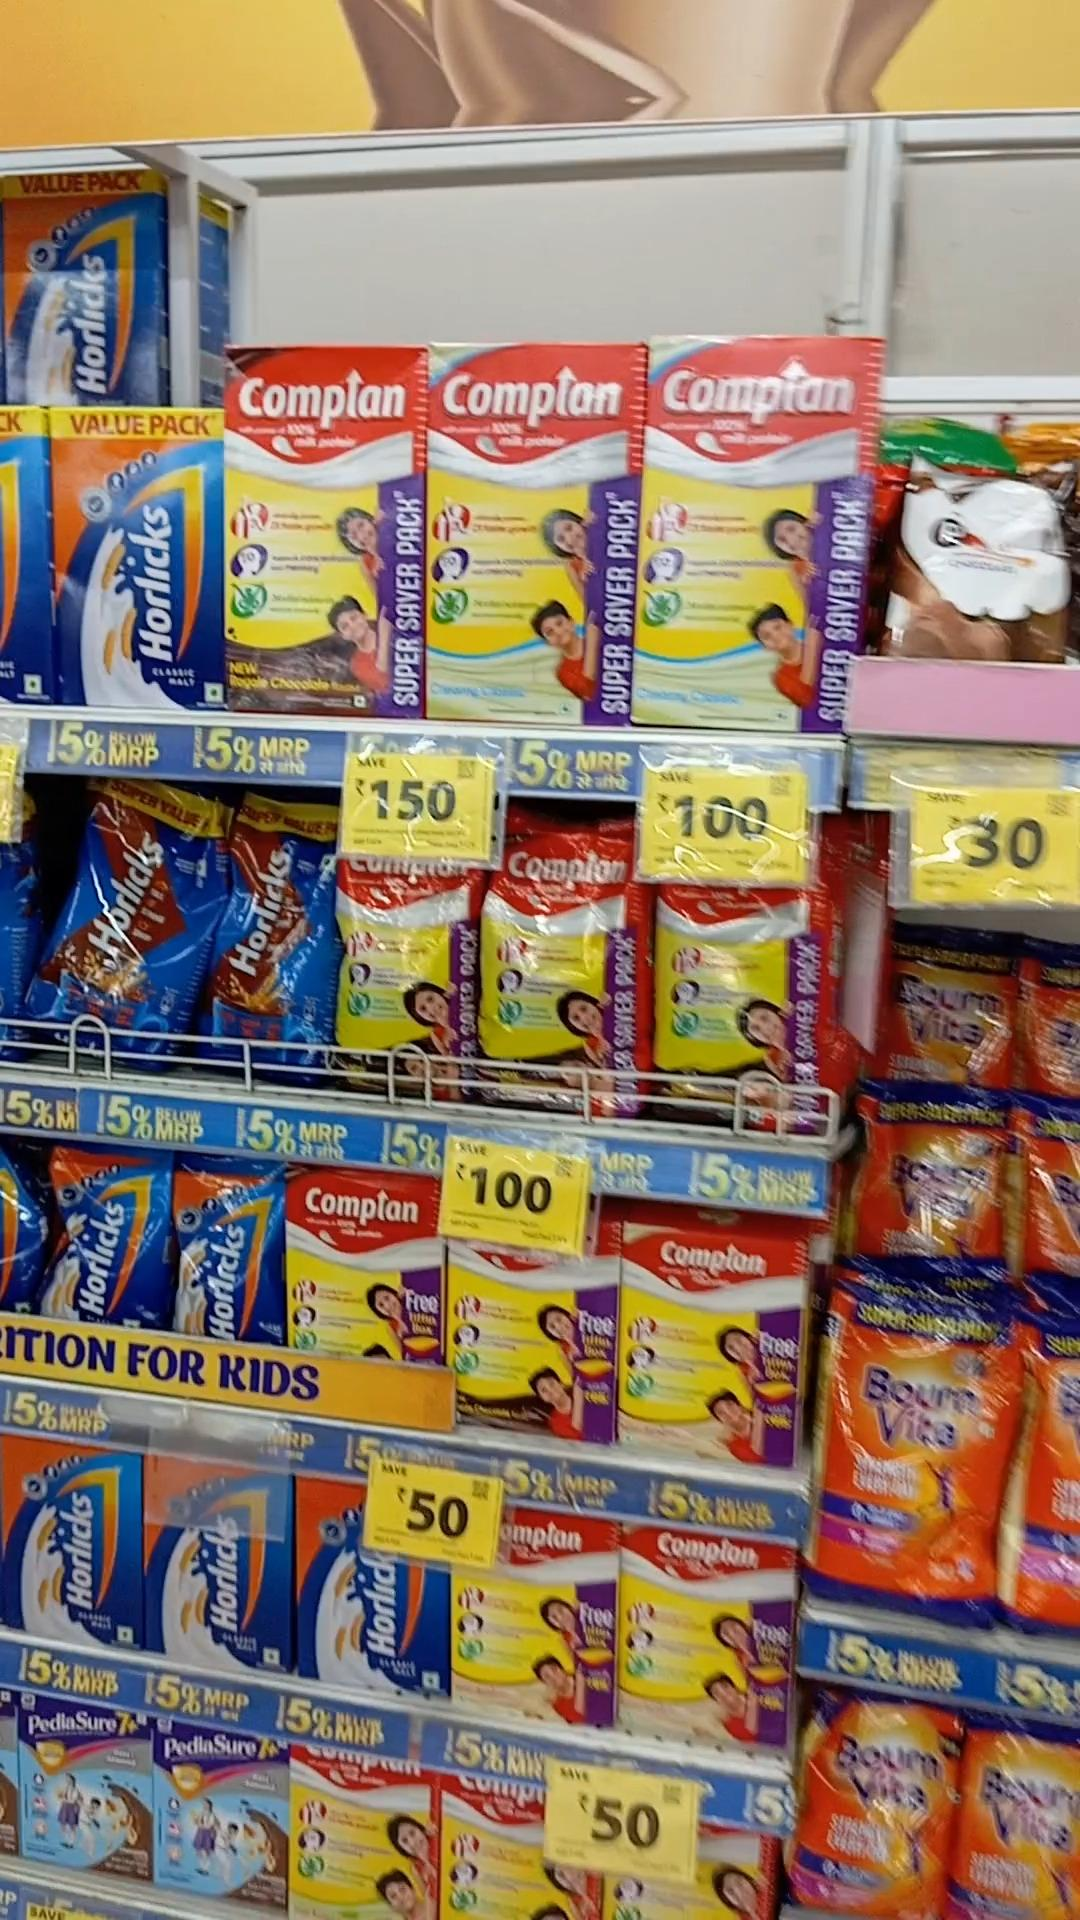BOURN_VITA_1_KG_POUCH: (816, 1292, 1001, 1598)
BOURN_VITA_750_G_POUCH: (796, 1704, 968, 1920)
COMPLAN_CHOCOLATE_1_KG_PACK: (232, 348, 421, 713)
COMPLAN_CHOCOLATE_500_GMS_PACK: (444, 1229, 625, 1445), (284, 1172, 446, 1356)
COMPLAN_KESAR_BADAM_500_GMS_PACK: (625, 1228, 803, 1462), (620, 1543, 795, 1747), (455, 1510, 617, 1725)
COMPLAN_RC_POUCH_700_GMS_12: (480, 815, 636, 1116), (644, 881, 819, 1134), (336, 852, 475, 1096)
HORLICK_CHOCOLATE_750_G_POUCH: (63, 785, 212, 1079), (215, 799, 335, 1085)
HORLICK_CLASSIC_MALT_500_G_PACK: (298, 1477, 446, 1693), (0, 1440, 144, 1651), (148, 1465, 290, 1672)
HORLICK_CLASSIC_MALT_750_G_POUCH: (165, 1159, 280, 1350), (51, 1149, 154, 1340)
